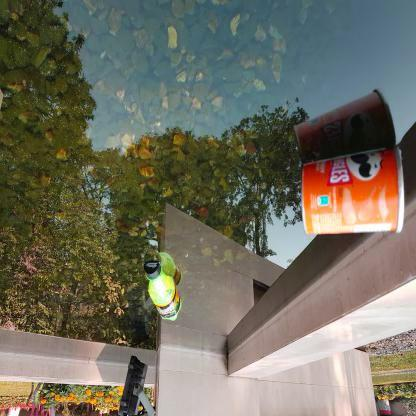Plastic: (297, 148, 408, 238), (143, 259, 184, 324)
